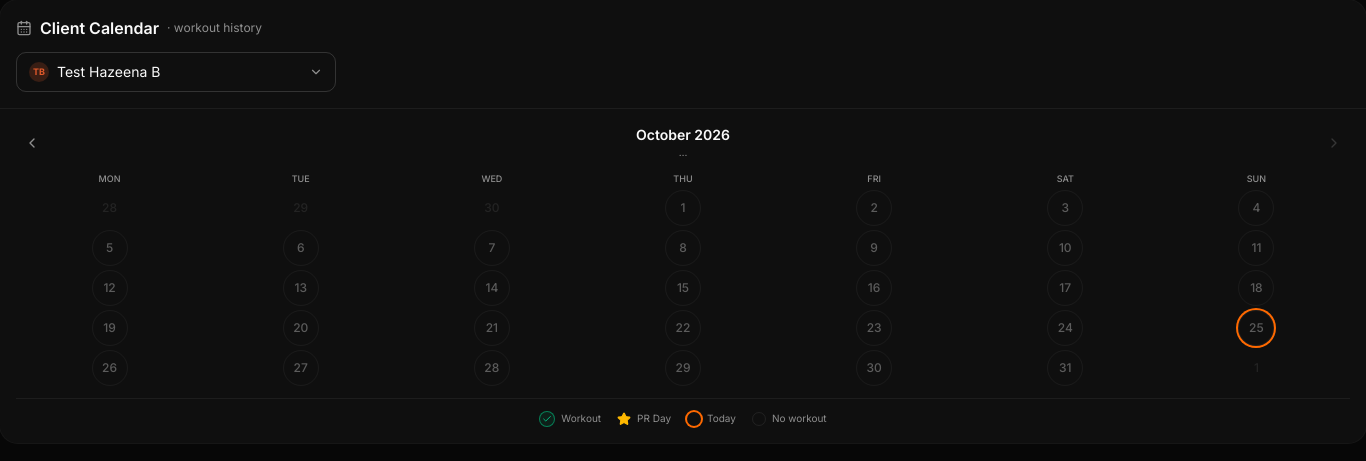
Test case: ClientWorkoutCalendar client picker › lists every client once opened and filters by search
Click the button "TB Test Hazeena B" at [109, 72], box [16,52,336,92]
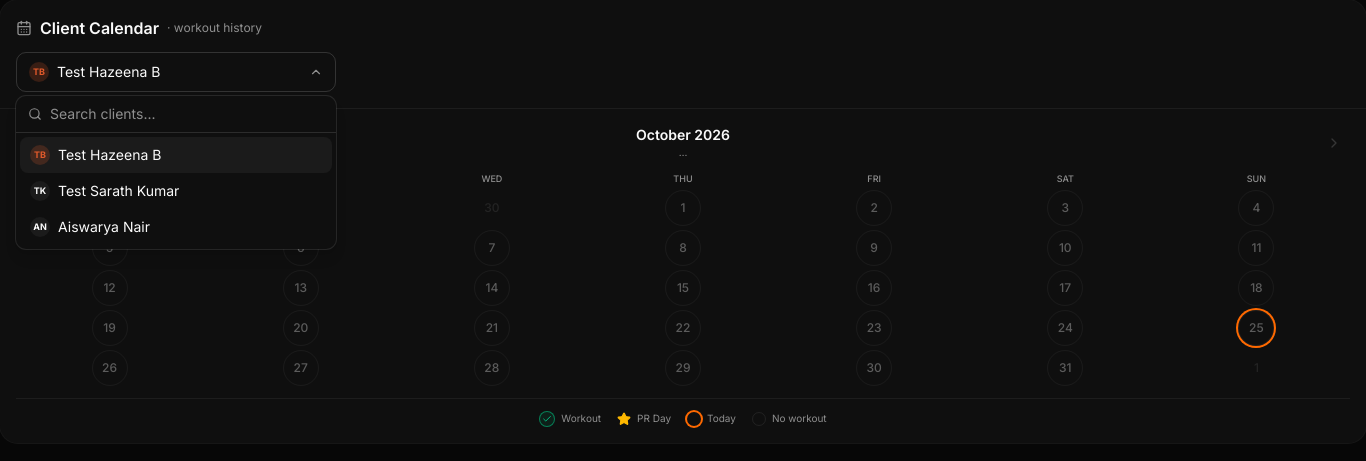
Check: the number of options is 3, box [20,137,332,173]; [20,173,332,209]; [20,209,332,245]
Type "aisw" into the field with placeholder "Search clients..." at [187, 114], box [50,104,324,124]
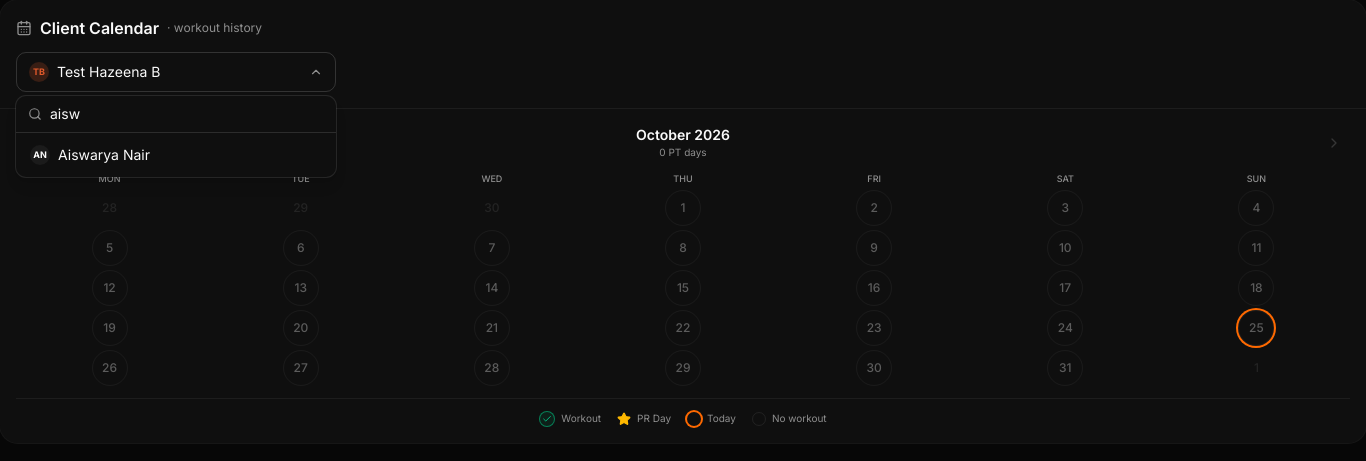
Check: the number of options is 1, box [20,137,332,173]
